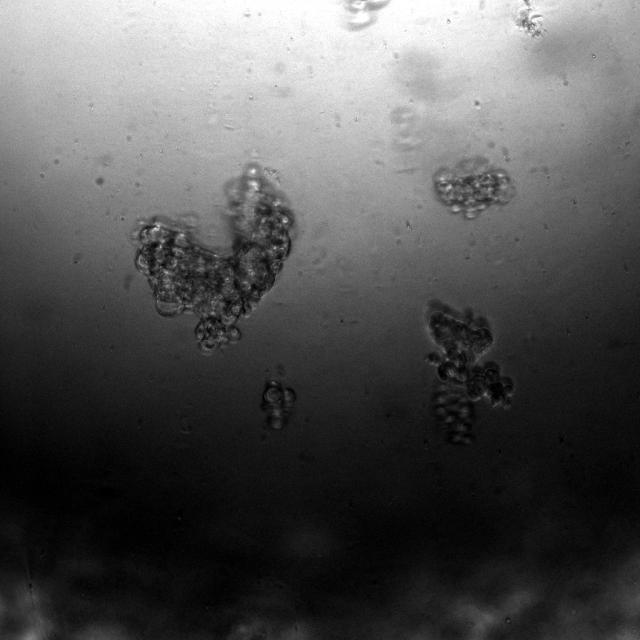organoid: (136, 165, 294, 352), (426, 309, 512, 443), (433, 157, 514, 219), (262, 381, 294, 430)
